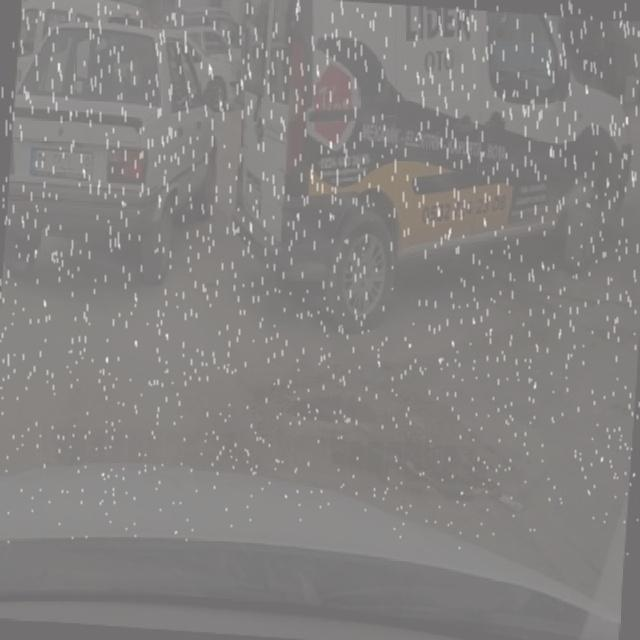Pothole: (269, 361, 514, 510)
